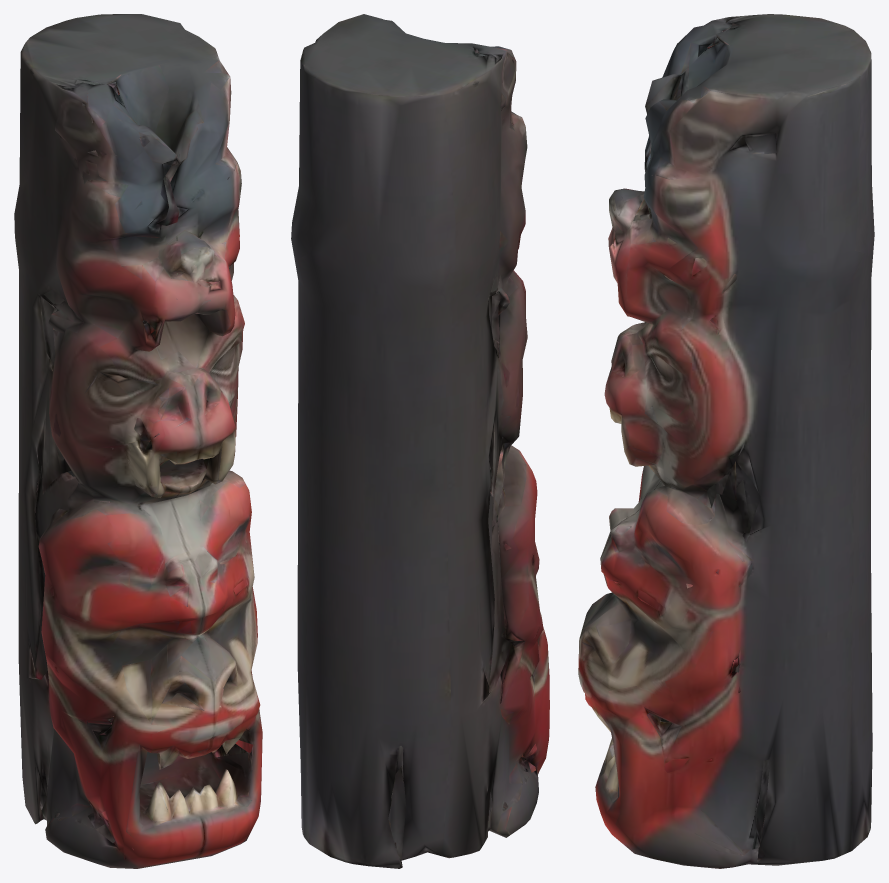
Rendered from totem_pole.glb.
3 views of the same model, side by side, from view 1: azimuth 30°, elevation 25°; view 2: azimuth 150°, elevation 25°; view 3: azimuth 270°, elevation 25° (orthographic). The views are drawn at different scales.
Size of the model in its own units: 0.5707 by 2 by 0.696.
1 material, 1 textured.
